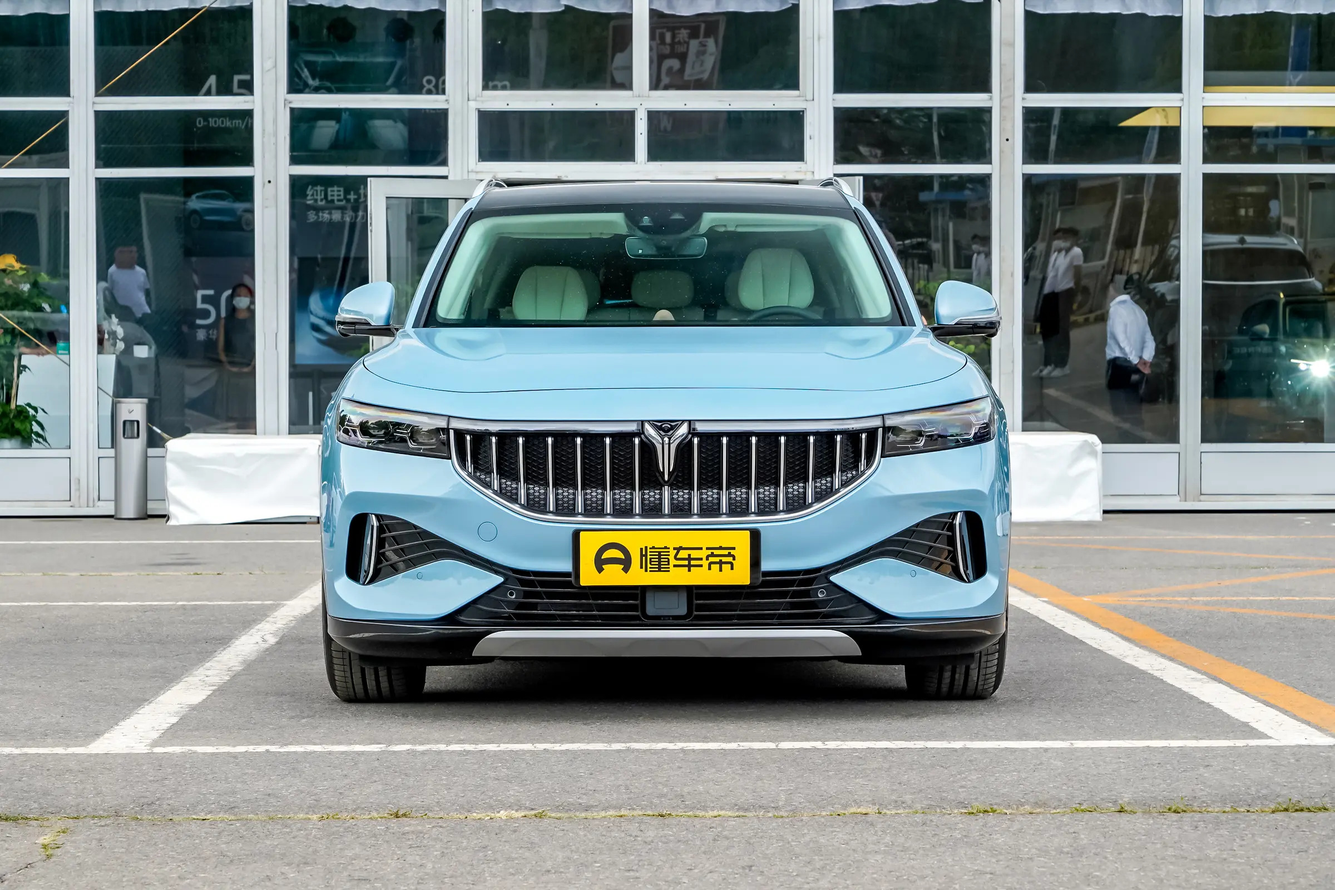VOYAH: (646, 422, 688, 479)
